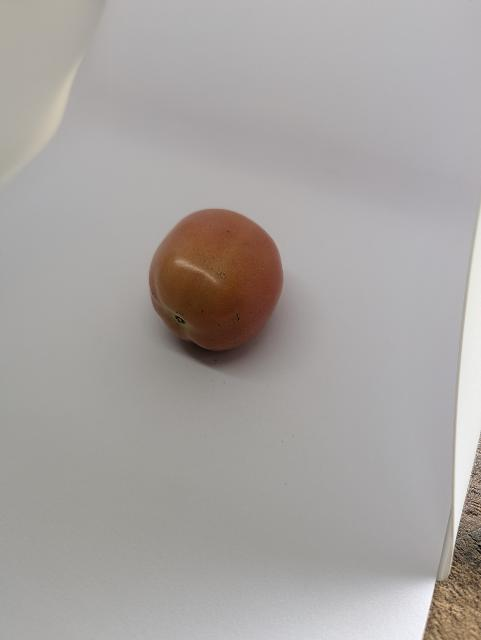turning: (145, 202, 294, 361)
